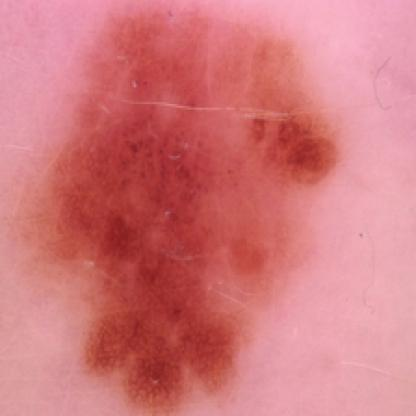benign: (46, 17, 330, 396)
